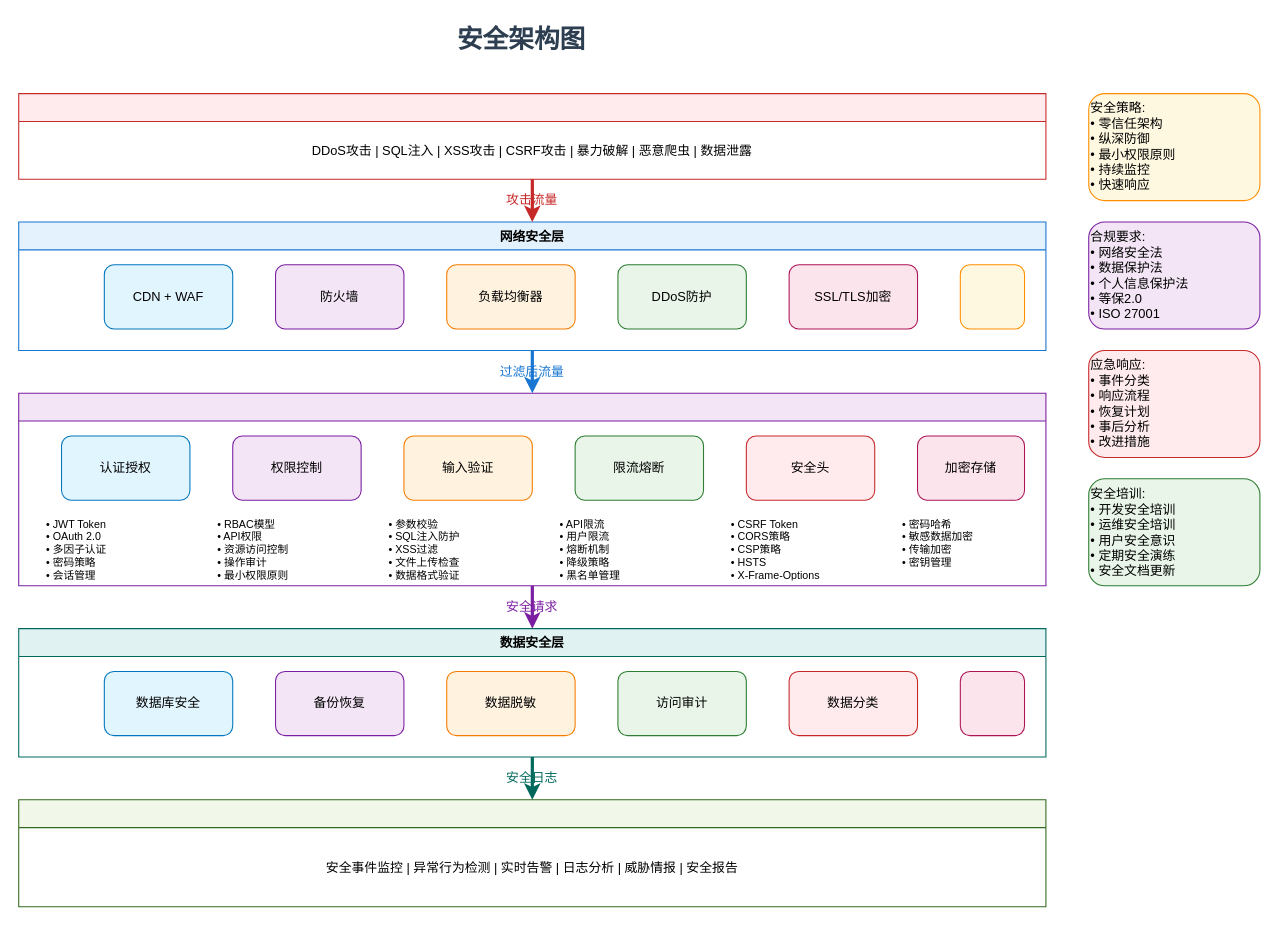
This 1279x926 diagram has some shape labels left out. Each missing label, with the box of its shape:
IDS/IPS: (959, 264, 1025, 329)
合规管理: (959, 670, 1025, 736)
外部威胁: (18, 93, 1046, 179)
应用安全层: (18, 392, 1046, 586)
监控告警层: (18, 799, 1046, 907)
